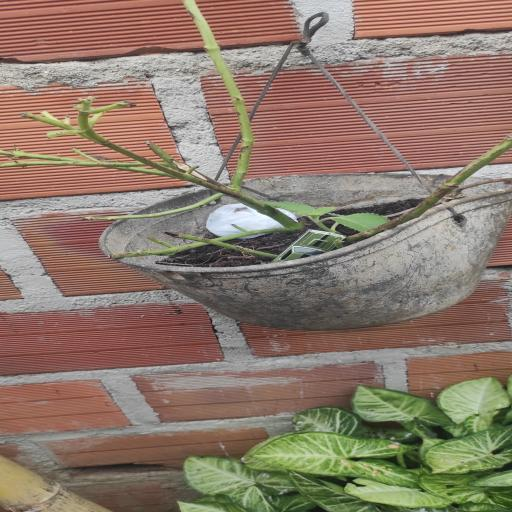Carrito: (274, 230, 346, 262)
